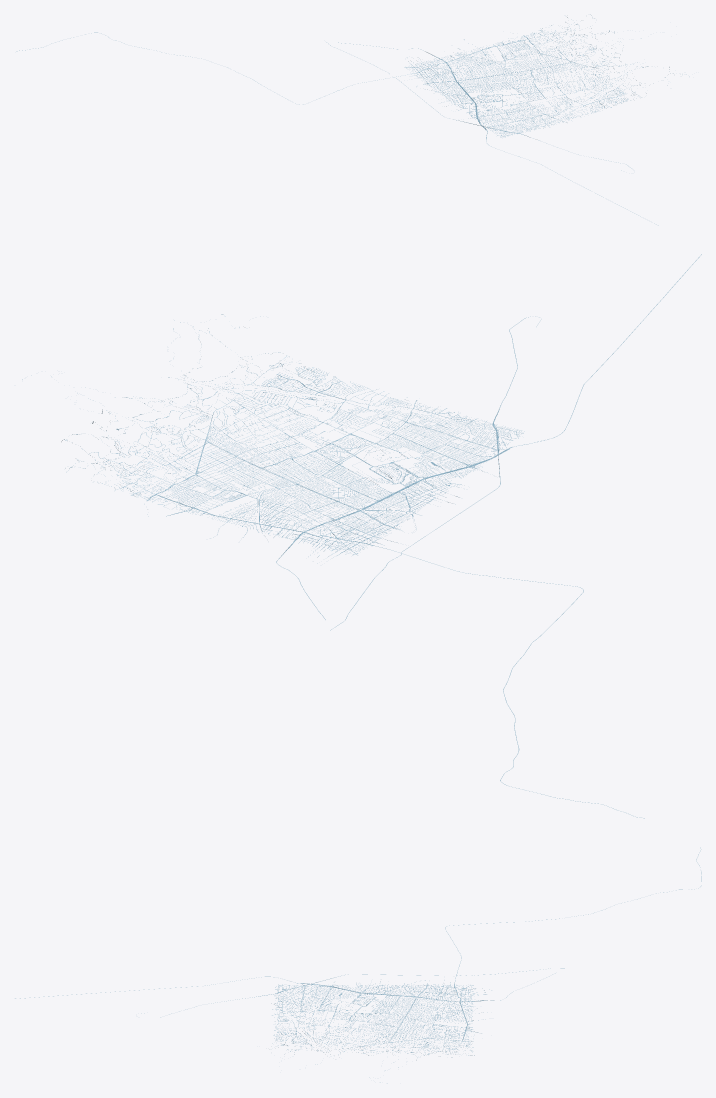
The model's file is roads.glb.
3 renders of one model, top to bottom at view 1: azimuth 30°, elevation 25°; view 2: azimuth 150°, elevation 25°; view 3: azimuth 270°, elevation 25°, orthographic. The views are drawn at different scales.
Visible parts, largest first — view 1: roads; view 2: roads; view 3: roads.
Boxes of the visible parts, <box> form: roads: <box>16,14,689,225</box>; roads: <box>22,254,701,818</box>; roads: <box>15,847,701,1083</box>.
Size of the model in its own units: 24065 by 1025 by 27810.
